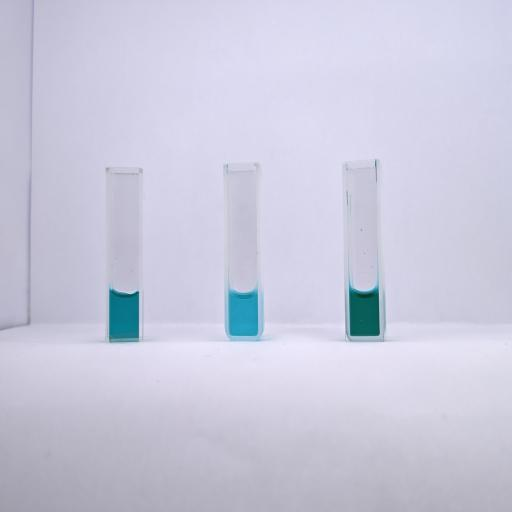cuvette: (340, 157, 386, 343), (103, 166, 146, 344), (222, 160, 263, 344)
liquid: (110, 290, 140, 338), (350, 288, 379, 336), (228, 290, 258, 336)
